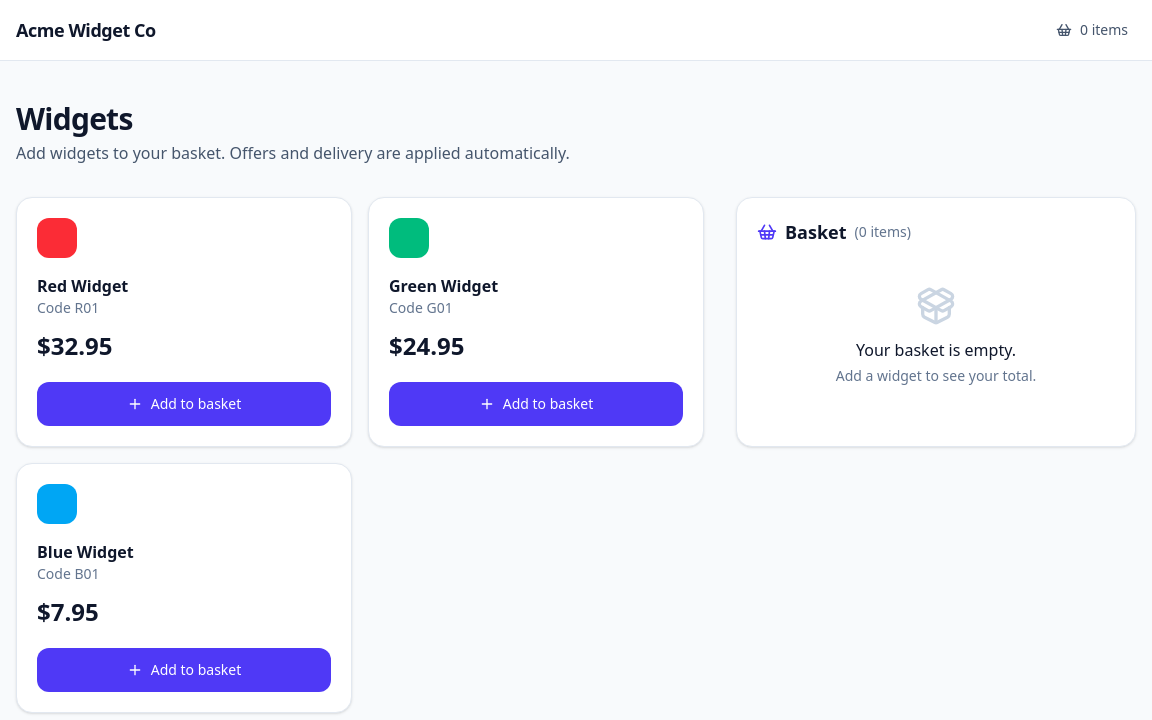
App › prices the assessment basket ["B01","G01"] at $37.85
Expected: the button with aria-label "Add Red Widget to basket" is shown, [37,382,331,426]
Click the button with aria-label "Add Blue Widget to basket": x=184, y=670 [37,648,331,692]
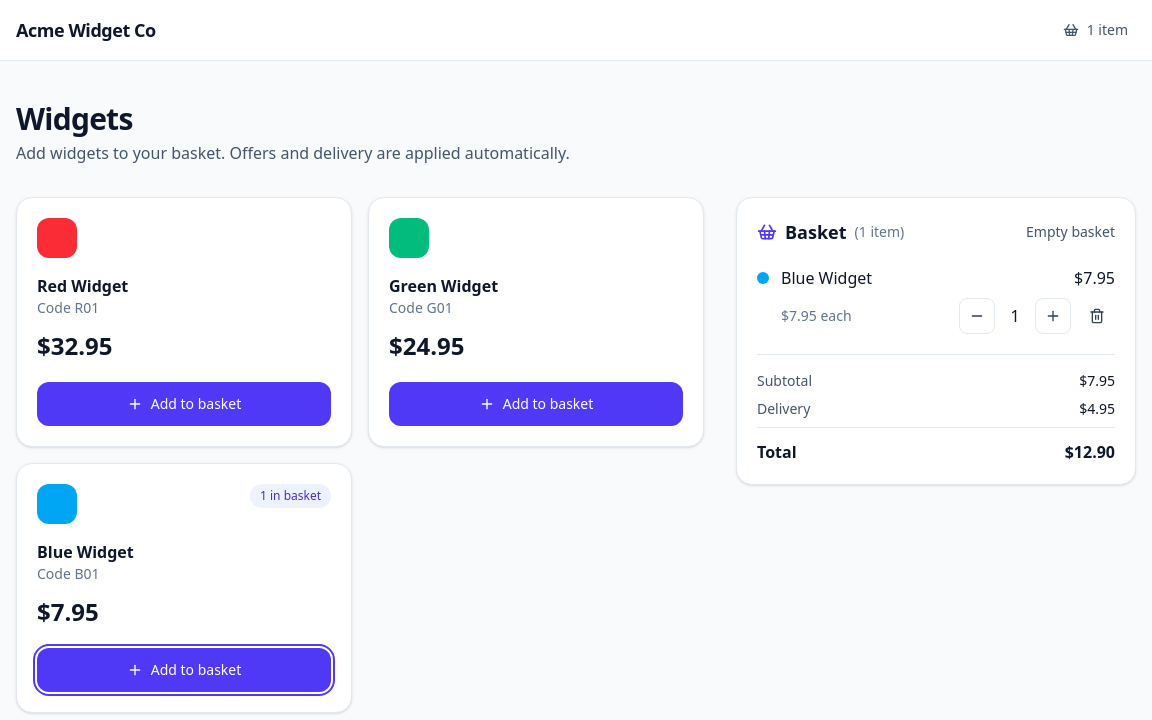
Click the button with aria-label "Add Green Widget to basket": x=536, y=404 [389,382,683,426]
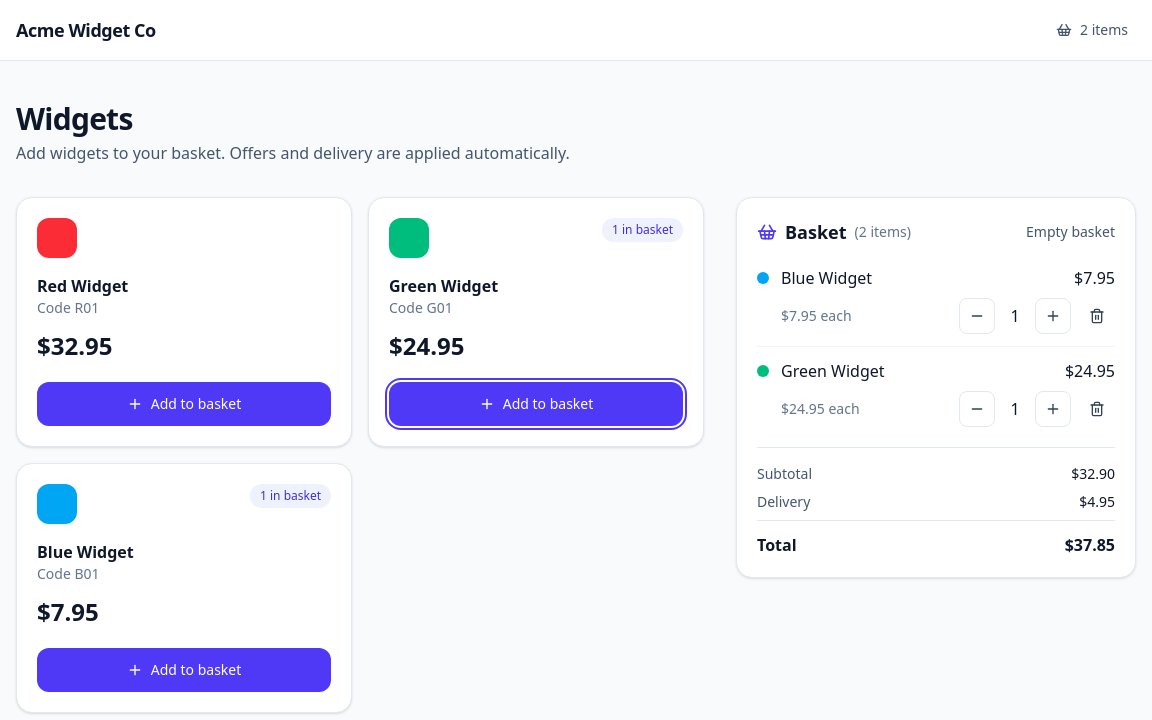
Expected: the text with test id "basket-total" reads "$37.85", [1065,534,1115,556]
